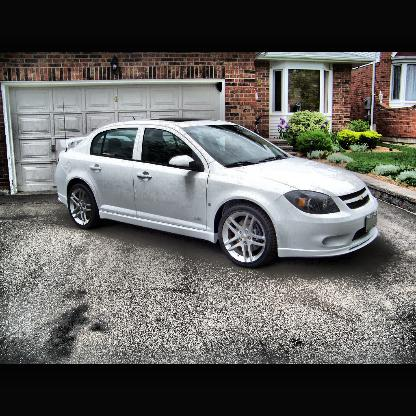Chevrolet Cobalt SS 2010: (53, 116, 381, 270)
